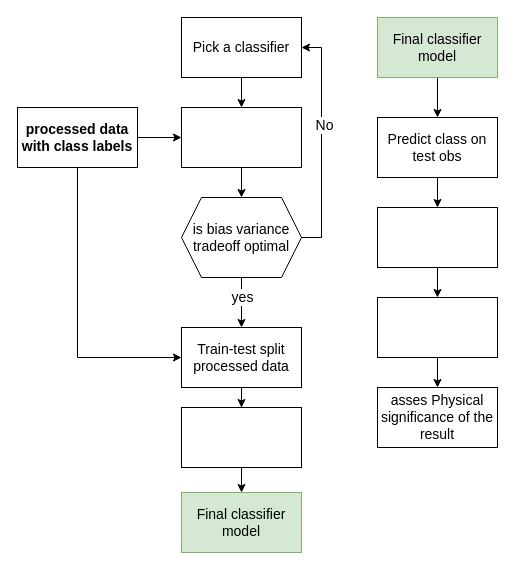
This 515x570 diagram has some shape labels left out. Here are the shapes that lost their labels. From the top down, the box of each, then its label:
(180, 106, 302, 168): Monte carlo cross validation
(376, 206, 498, 268): Calculate feature importance
(376, 296, 498, 358): Verify distribution of important features
(180, 406, 302, 468): Hyper parameter tuning
